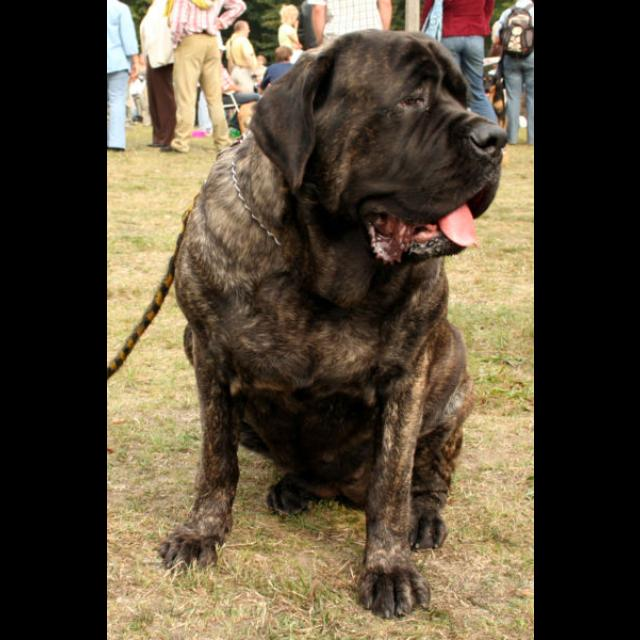mastino_napoletano: (107, 28, 509, 621)
person: (161, 2, 247, 155), (420, 1, 500, 125), (491, 2, 533, 147), (308, 2, 393, 47)
